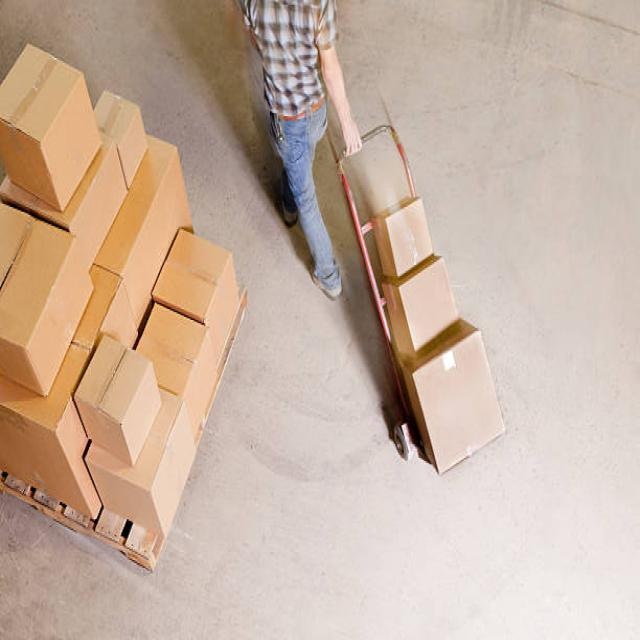Wooden-Pallets: (4, 284, 250, 588)
